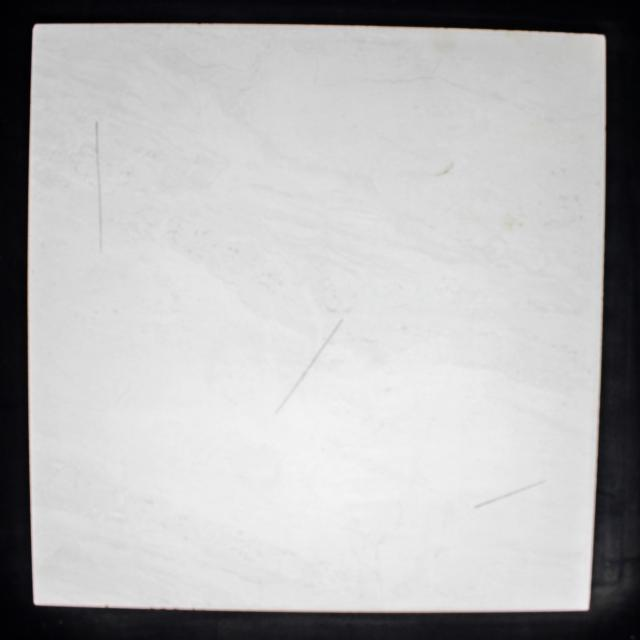line: (273, 365, 311, 417), (311, 317, 346, 365), (93, 119, 104, 254), (472, 494, 510, 510), (512, 478, 546, 495)
